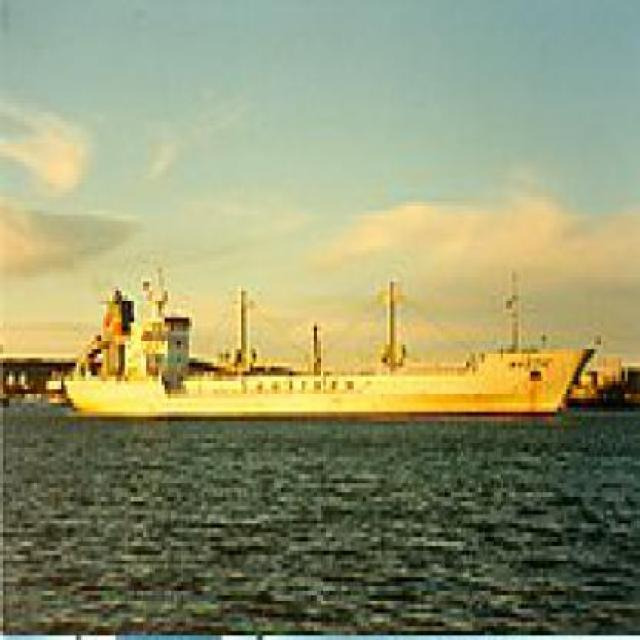container: (53, 246, 604, 431)
